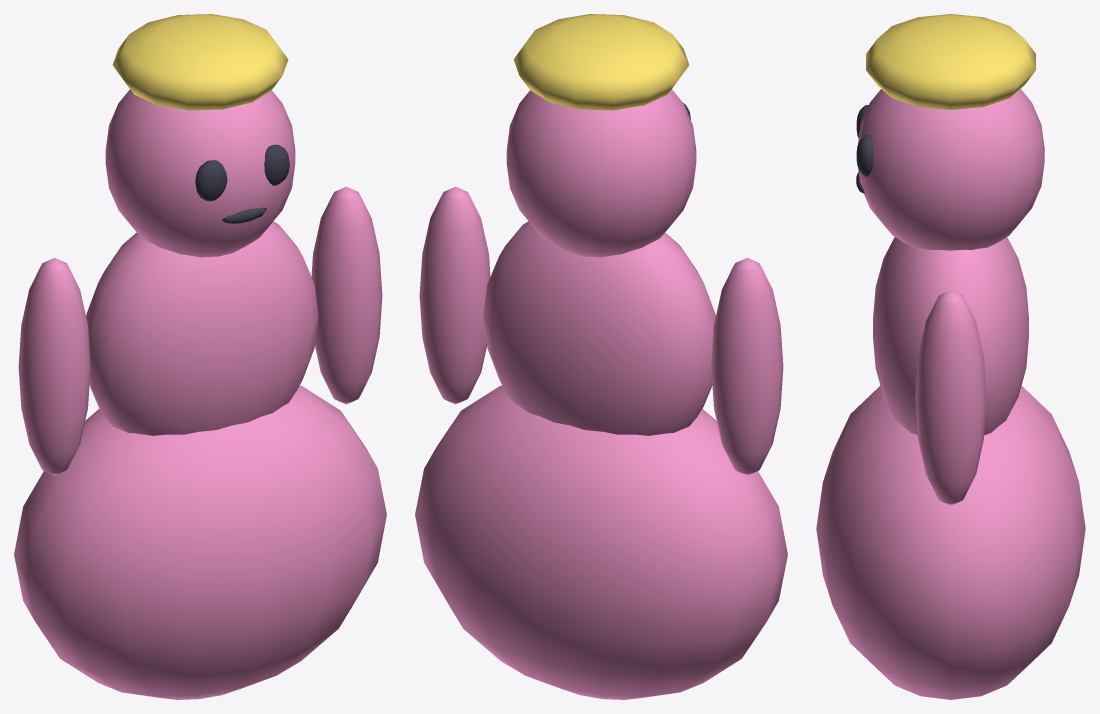
The model's file is princess.glb.
3 views of the same model, side by side, from view 1: azimuth 30°, elevation 25°; view 2: azimuth 150°, elevation 25°; view 3: azimuth 270°, elevation 25° (orthographic).
Parts seen in each view (by area): view 1: Robe, Torso, Head, Crown, ArmLeft, ArmRight, EyeLeft, EyeRight; view 2: Robe, Torso, Head, Crown, ArmLeft, ArmRight; view 3: Robe, Head, Torso, Crown, ArmRight, EyeRight.
Part boxes in pixels (bbox=[...]): Robe: bbox=[14, 385, 386, 699]; Torso: bbox=[86, 221, 318, 435]; Head: bbox=[105, 89, 295, 257]; Crown: bbox=[112, 14, 288, 110]; ArmLeft: bbox=[18, 257, 90, 475]; ArmRight: bbox=[311, 186, 382, 404]; EyeLeft: bbox=[195, 160, 227, 201]; EyeRight: bbox=[264, 144, 289, 185]; Robe: bbox=[415, 385, 787, 699]; Torso: bbox=[483, 221, 715, 435]; Head: bbox=[506, 89, 696, 257]; Crown: bbox=[513, 14, 689, 110]; ArmLeft: bbox=[711, 257, 783, 475]; ArmRight: bbox=[419, 186, 490, 404]; Robe: bbox=[816, 386, 1085, 699]; Head: bbox=[858, 89, 1044, 250]; Torso: bbox=[873, 237, 1028, 435]; Crown: bbox=[866, 14, 1035, 109]; ArmRight: bbox=[915, 290, 986, 505]; EyeRight: bbox=[856, 135, 873, 176].
Size of the model in its own units: 1.02 by 1.81 by 0.68.
